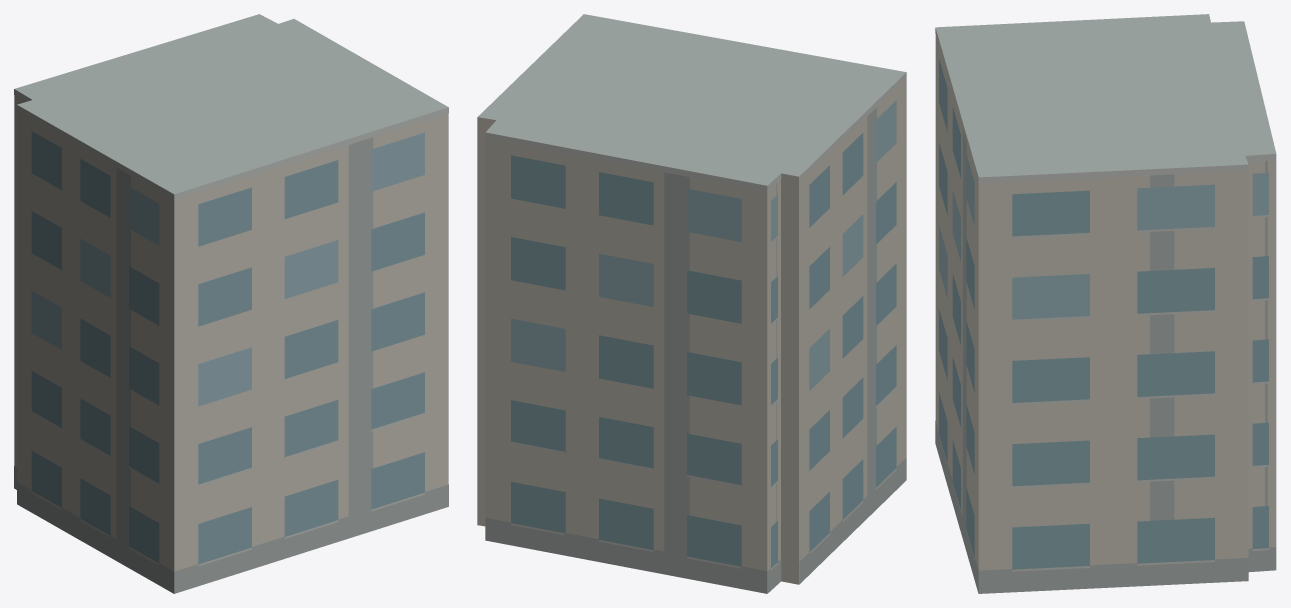
File: survey-upis-33014440.glb
3 views of the same model, side by side, from view 1: azimuth 30°, elevation 25°; view 2: azimuth 150°, elevation 25°; view 3: azimuth 270°, elevation 25° (orthographic). The views are drawn at different scales.
Parts seen in each view (by area): view 1: survey-upis-33014440.tmp; view 2: survey-upis-33014440.tmp; view 3: survey-upis-33014440.tmp.
Part boxes in pixels (<box>): survey-upis-33014440.tmp: <box>14,14,448,593</box>; survey-upis-33014440.tmp: <box>477,14,906,593</box>; survey-upis-33014440.tmp: <box>935,14,1276,593</box>.
Size of the model in its own units: 13.73 by 16.3 by 12.1.
